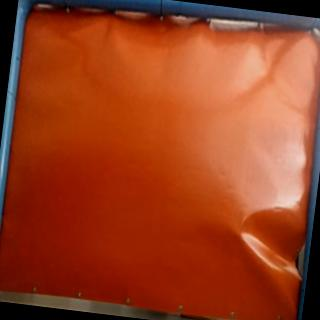Hit-hRxx: (232, 226, 248, 242)
